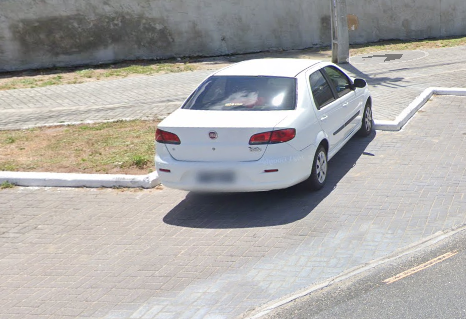car: (153, 50, 379, 214)
